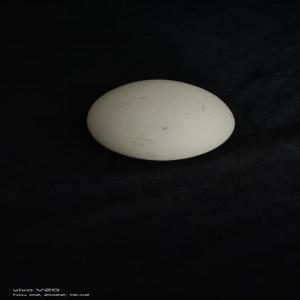Egg: (86, 78, 238, 163)
